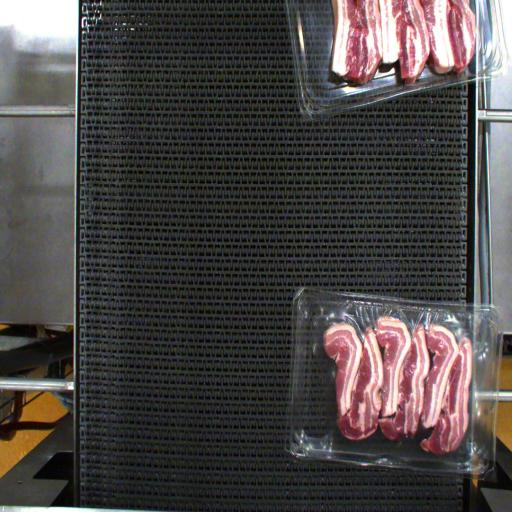unsealed: (311, 298, 495, 472)
